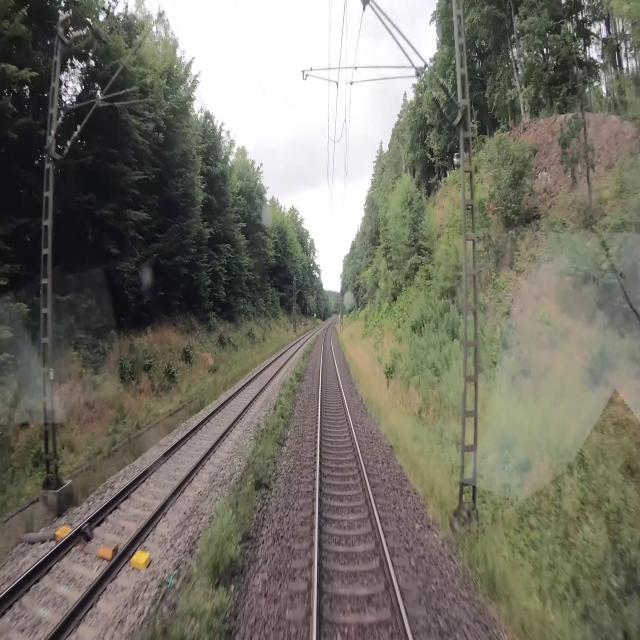Plant: (142, 334, 319, 639), (350, 367, 382, 432)
